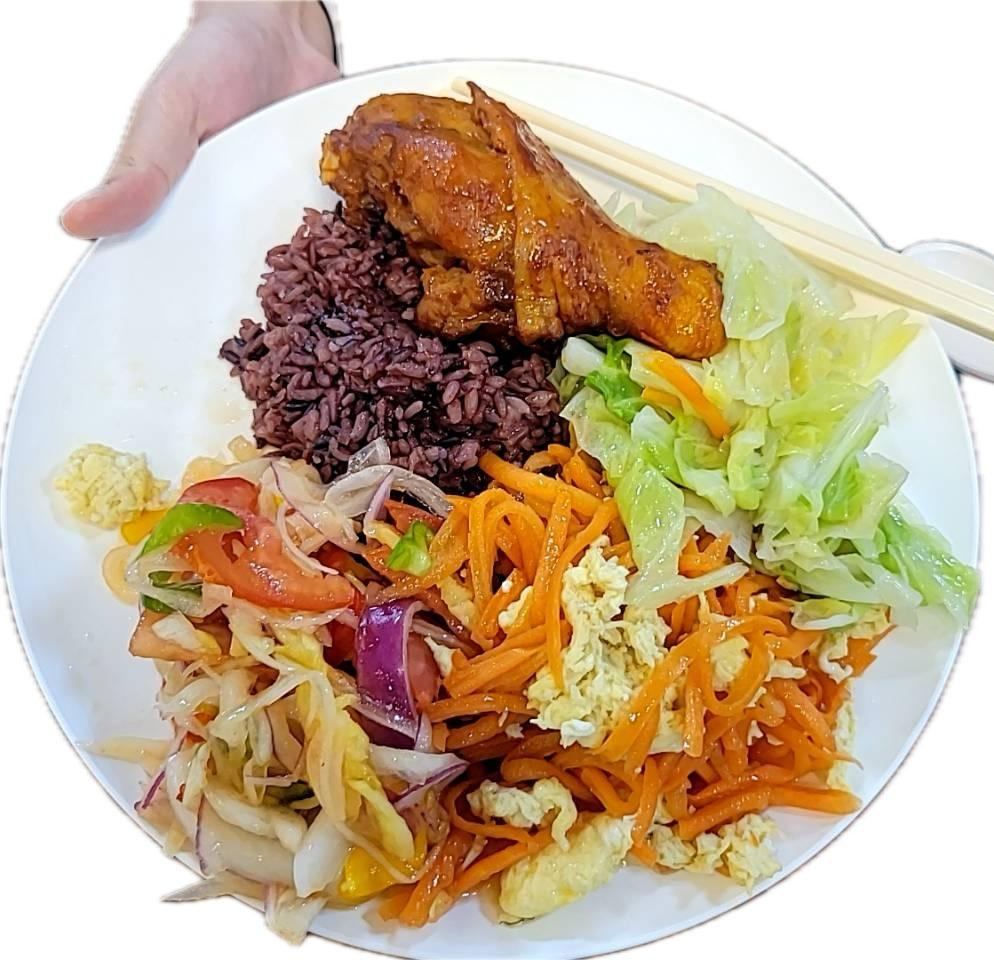big fried chicken leg: (6, 46, 989, 960)
braised fish: (210, 200, 555, 485)
braised fish fillet: (440, 436, 877, 920), (62, 432, 451, 917), (582, 182, 982, 620)
braised pork: (320, 86, 729, 365)
